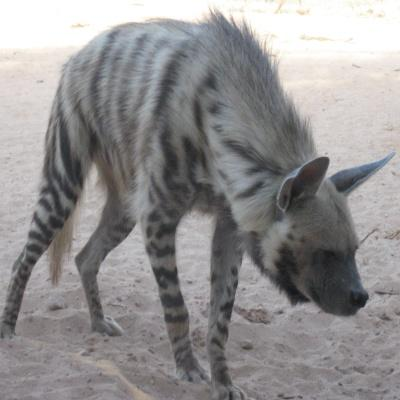hyenas: (16, 2, 400, 400)
